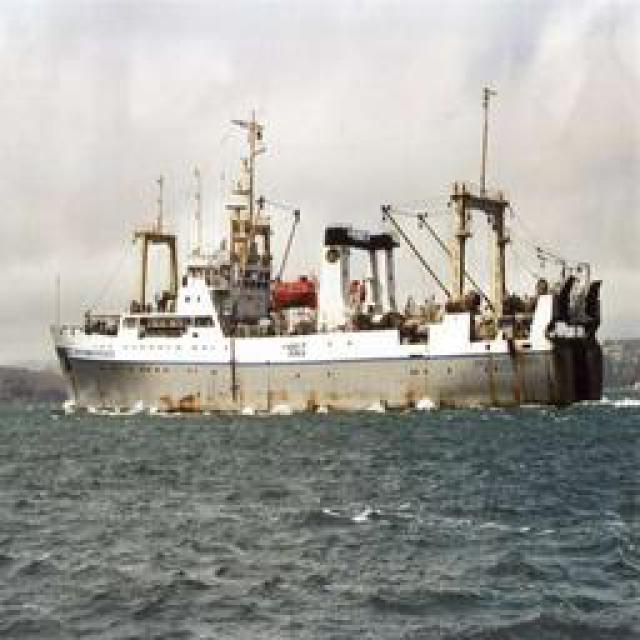Ship: (52, 94, 605, 407)
